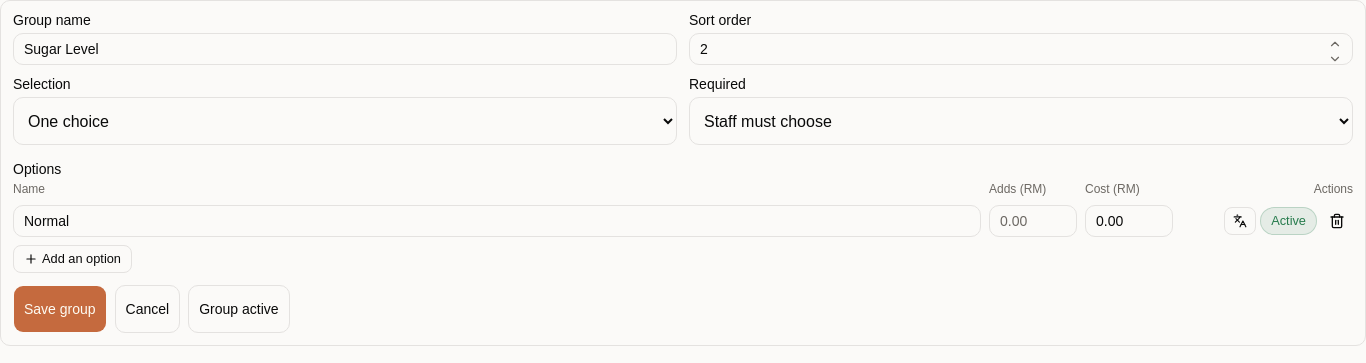
the sort order of a modifier group › takes away exactly one, and goes below zero because nothing says it may not
Click the button named "Decrease sort order": click(1335, 59) [1321,52,1349,66]
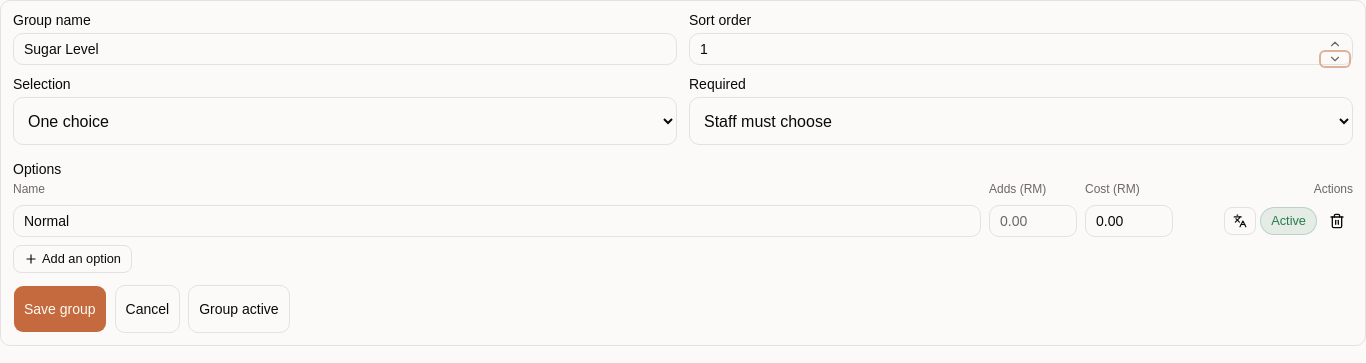
Click the button named "Decrease sort order": click(1335, 59) [1321,52,1349,66]
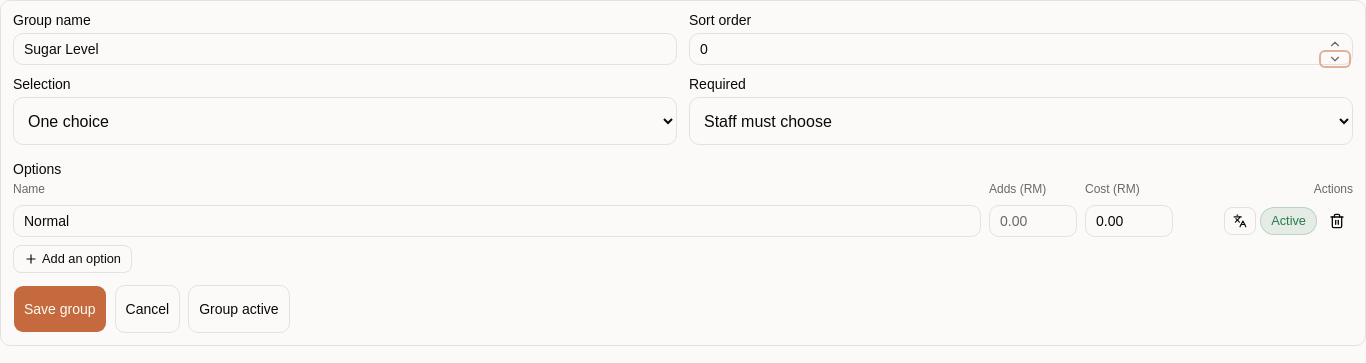
Click the button named "Decrease sort order": click(1335, 59) [1321,52,1349,66]
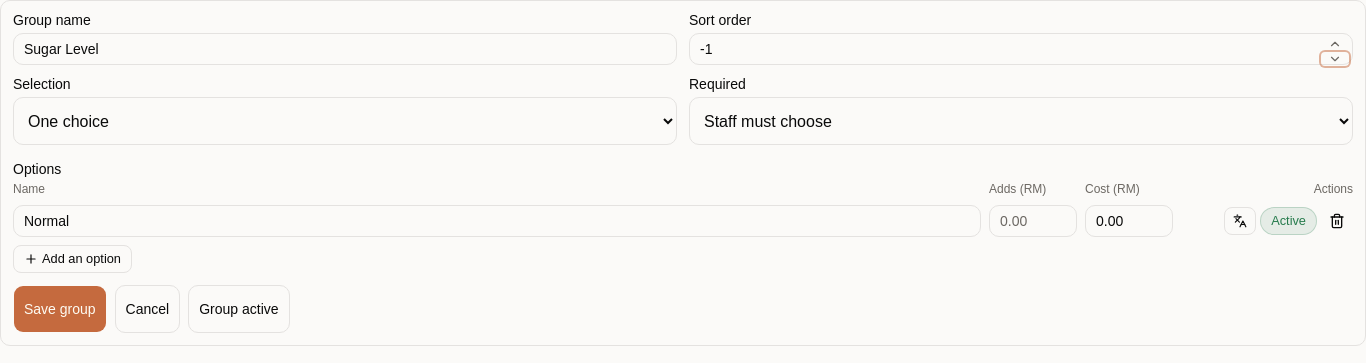
Click the button named "Decrease sort order": click(1335, 59) [1321,52,1349,66]
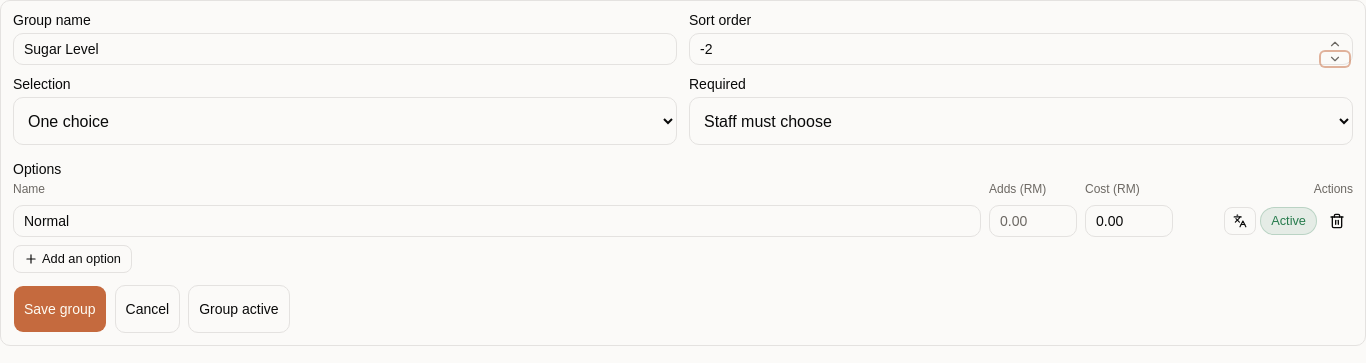
Check: the number field with id "group-sort" holds "-2", box [689,33,1353,65]
